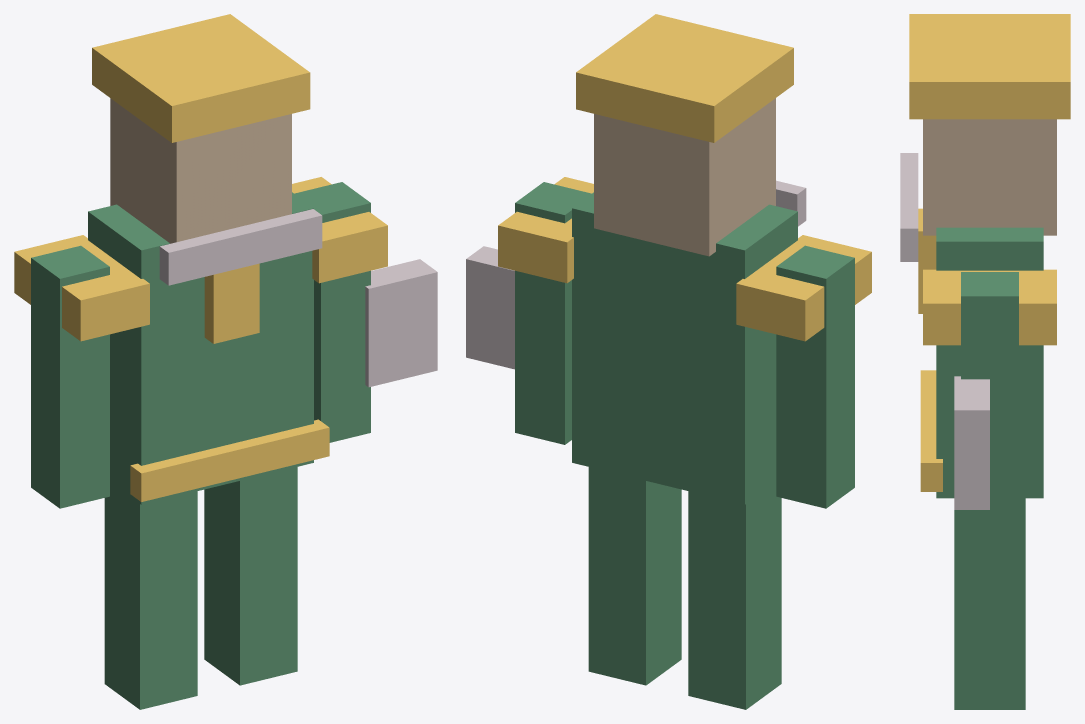
File: 01_tovin_gravesong_captain_near_hollow.glb
3 renders of one model, left to right at view 1: azimuth 30°, elevation 25°; view 2: azimuth 150°, elevation 25°; view 3: azimuth 270°, elevation 25°, orthographic.
Parts seen in each view (by area): view 1: Tovin Gravesong, Captain near Hollow; view 2: Tovin Gravesong, Captain near Hollow; view 3: Tovin Gravesong, Captain near Hollow.
Part boxes in pixels (x1,y1,x2,y2): Tovin Gravesong, Captain near Hollow: (14, 14, 437, 709); Tovin Gravesong, Captain near Hollow: (466, 14, 871, 709); Tovin Gravesong, Captain near Hollow: (900, 14, 1070, 709).
Size of the model in its own units: 1.06 by 1.68 by 0.4145.
